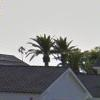Palm tree: (25, 26, 79, 68)
